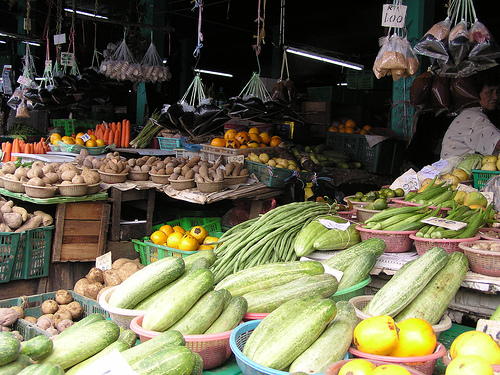cucumber: (0, 1, 498, 373)
